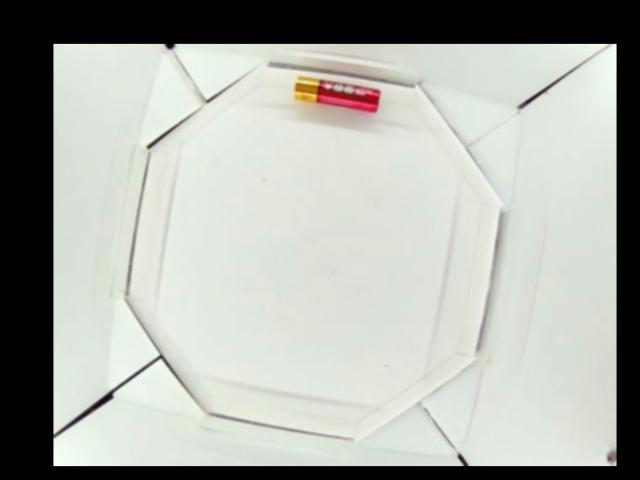Battery: (293, 76, 380, 110)
